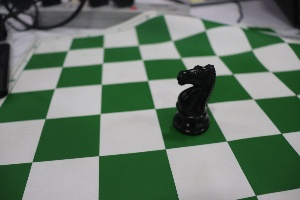black_horse: (168, 46, 221, 146)
